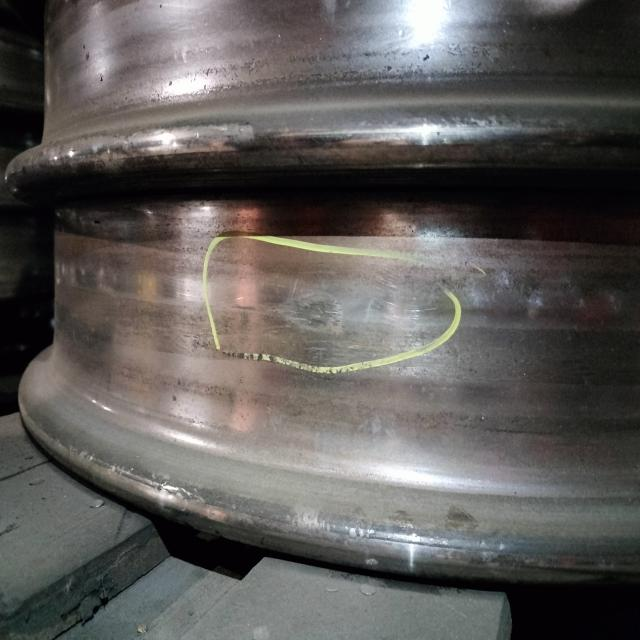Blue hole: (278, 276, 352, 348)
flat: (71, 257, 496, 346)
